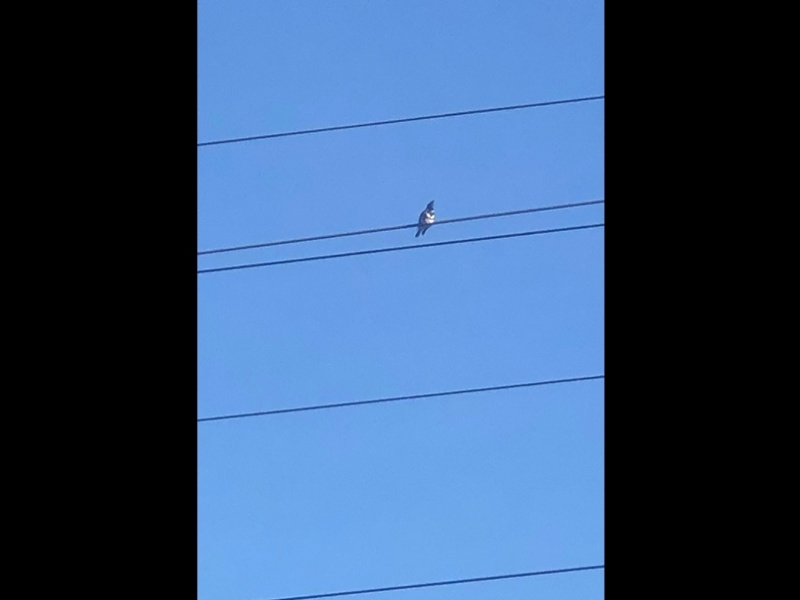kingfisher: (414, 199, 436, 239)
